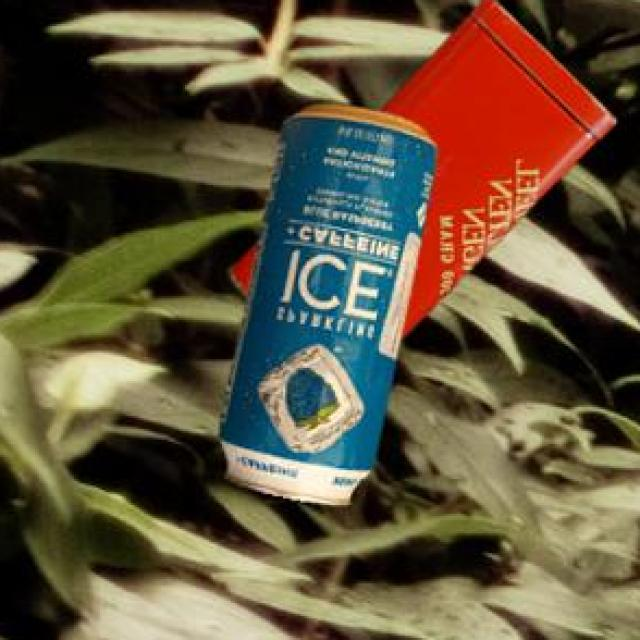logam: (230, 0, 619, 336), (223, 101, 441, 502)
